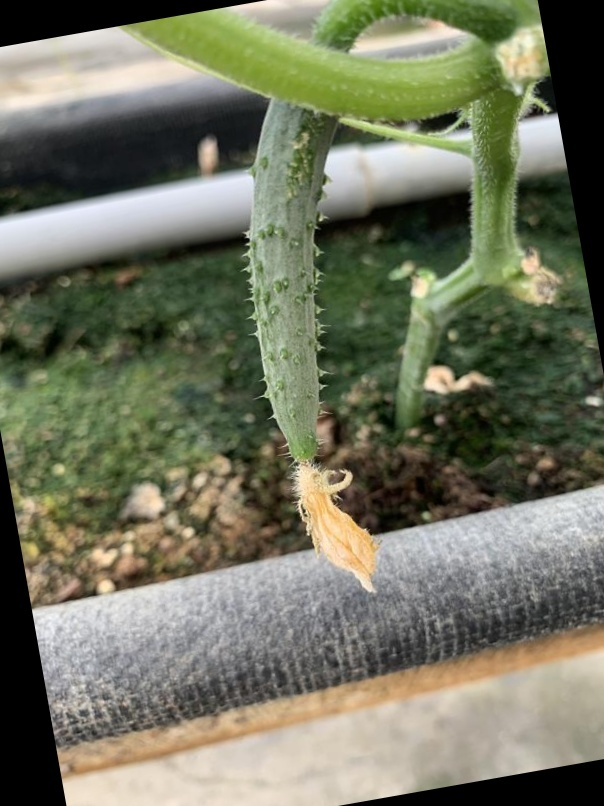bear: (209, 113, 397, 605)
